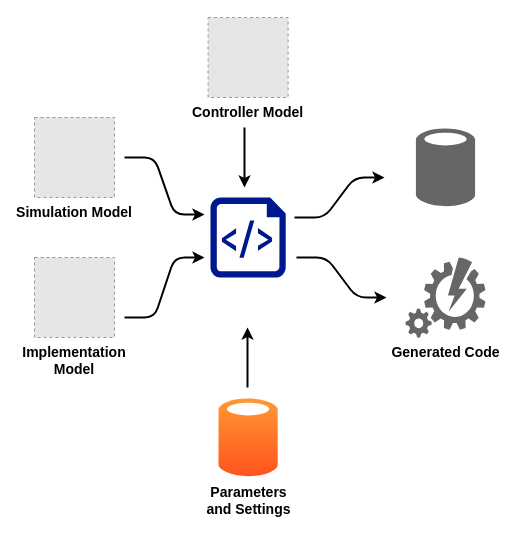
The diagram is 518 pixels wide and 536 high, and some of its shapes have lost their labels. Grey dashed boxes stand in for pictures. Each missing label, with the box of its shape:
Experiment Data: (415, 127, 475, 207)
Experimentation script: (210, 197, 285, 277)
